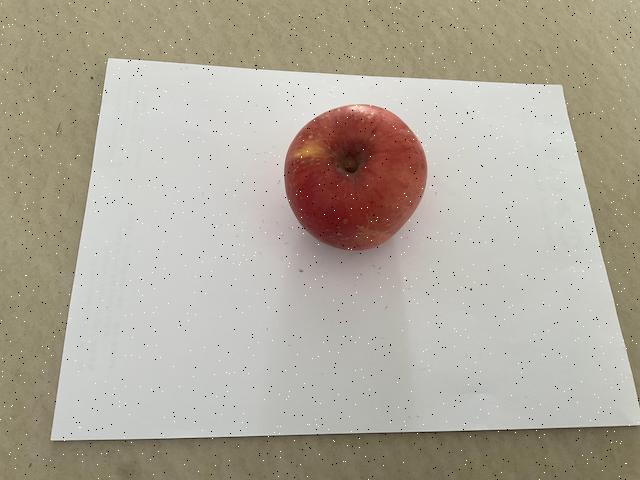apple: (279, 99, 431, 255)
